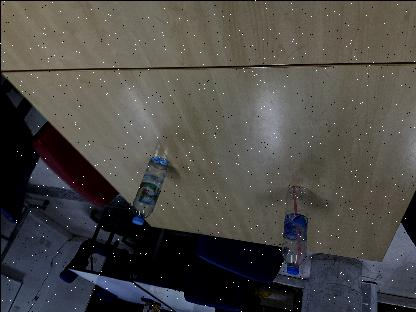Plastic Bottle: (280, 183, 310, 274), (131, 154, 167, 226)
